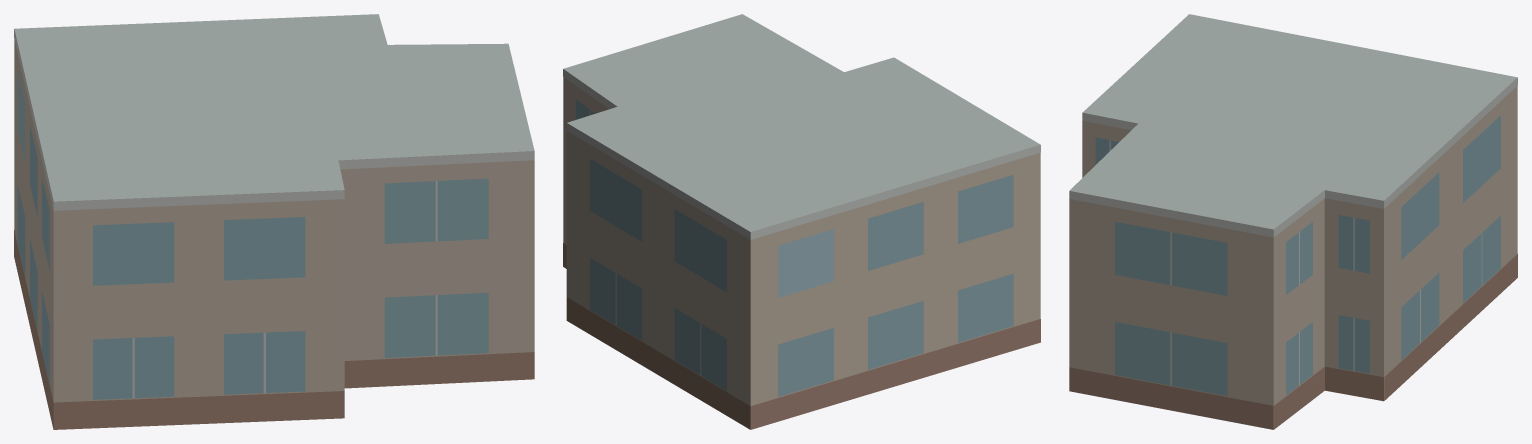
The model's file is survey-upis-32736535.glb.
3 renders of one model, left to right at view 1: azimuth 30°, elevation 25°; view 2: azimuth 150°, elevation 25°; view 3: azimuth 270°, elevation 25°, orthographic. The views are drawn at different scales.
Visible parts, largest first — view 1: survey-upis-32736535.tmp; view 2: survey-upis-32736535.tmp; view 3: survey-upis-32736535.tmp.
Boxes of the visible parts, box(x1,y1,x2,y2) form: survey-upis-32736535.tmp: box(14, 14, 534, 429); survey-upis-32736535.tmp: box(563, 14, 1040, 429); survey-upis-32736535.tmp: box(1069, 14, 1517, 429).
Size of the model in its own units: 14.08 by 6.1 by 12.39.
